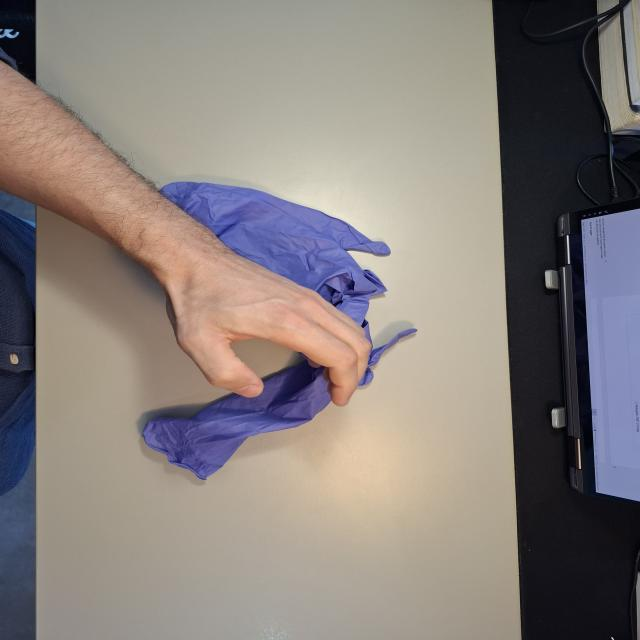glove_off: (157, 244, 374, 409)
